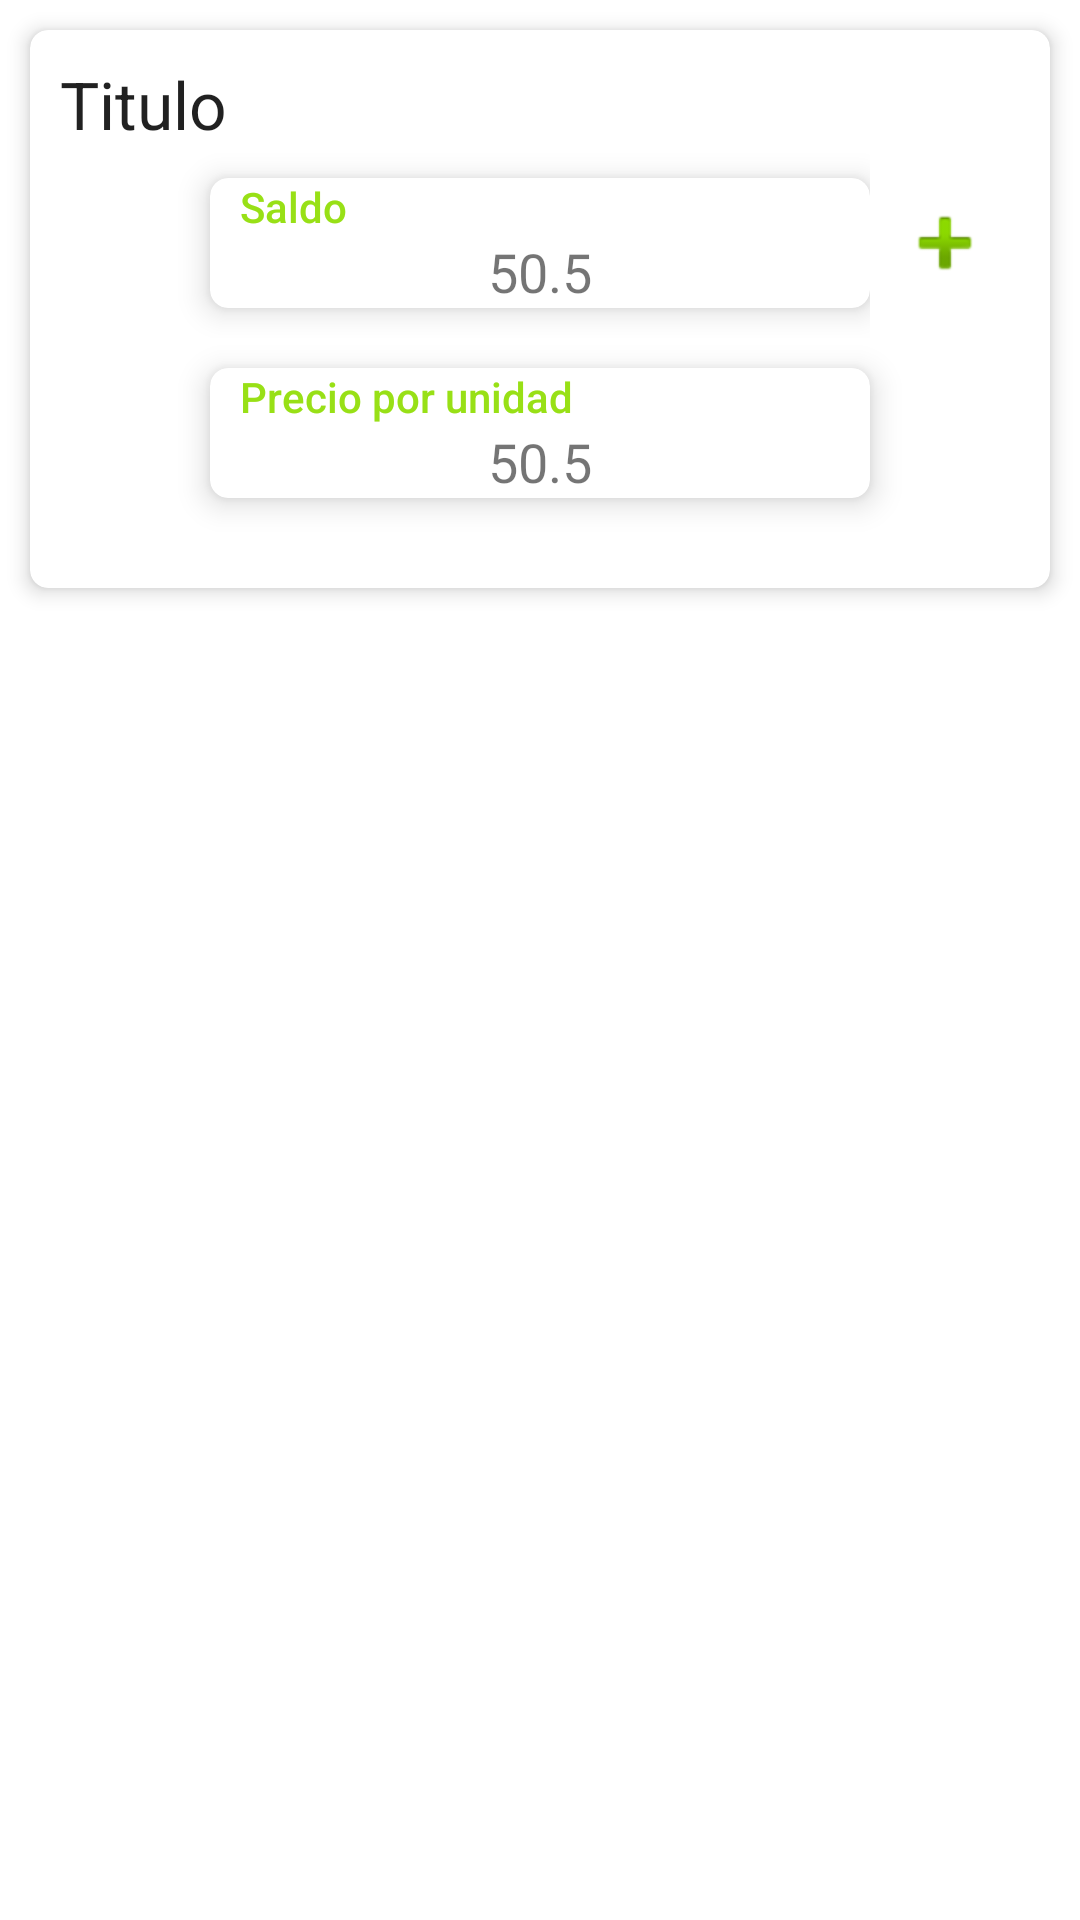

Named icons in this screenshot (1080px x 1920px) and their centers, (x=x, y=y):
add: (x=945, y=243)
